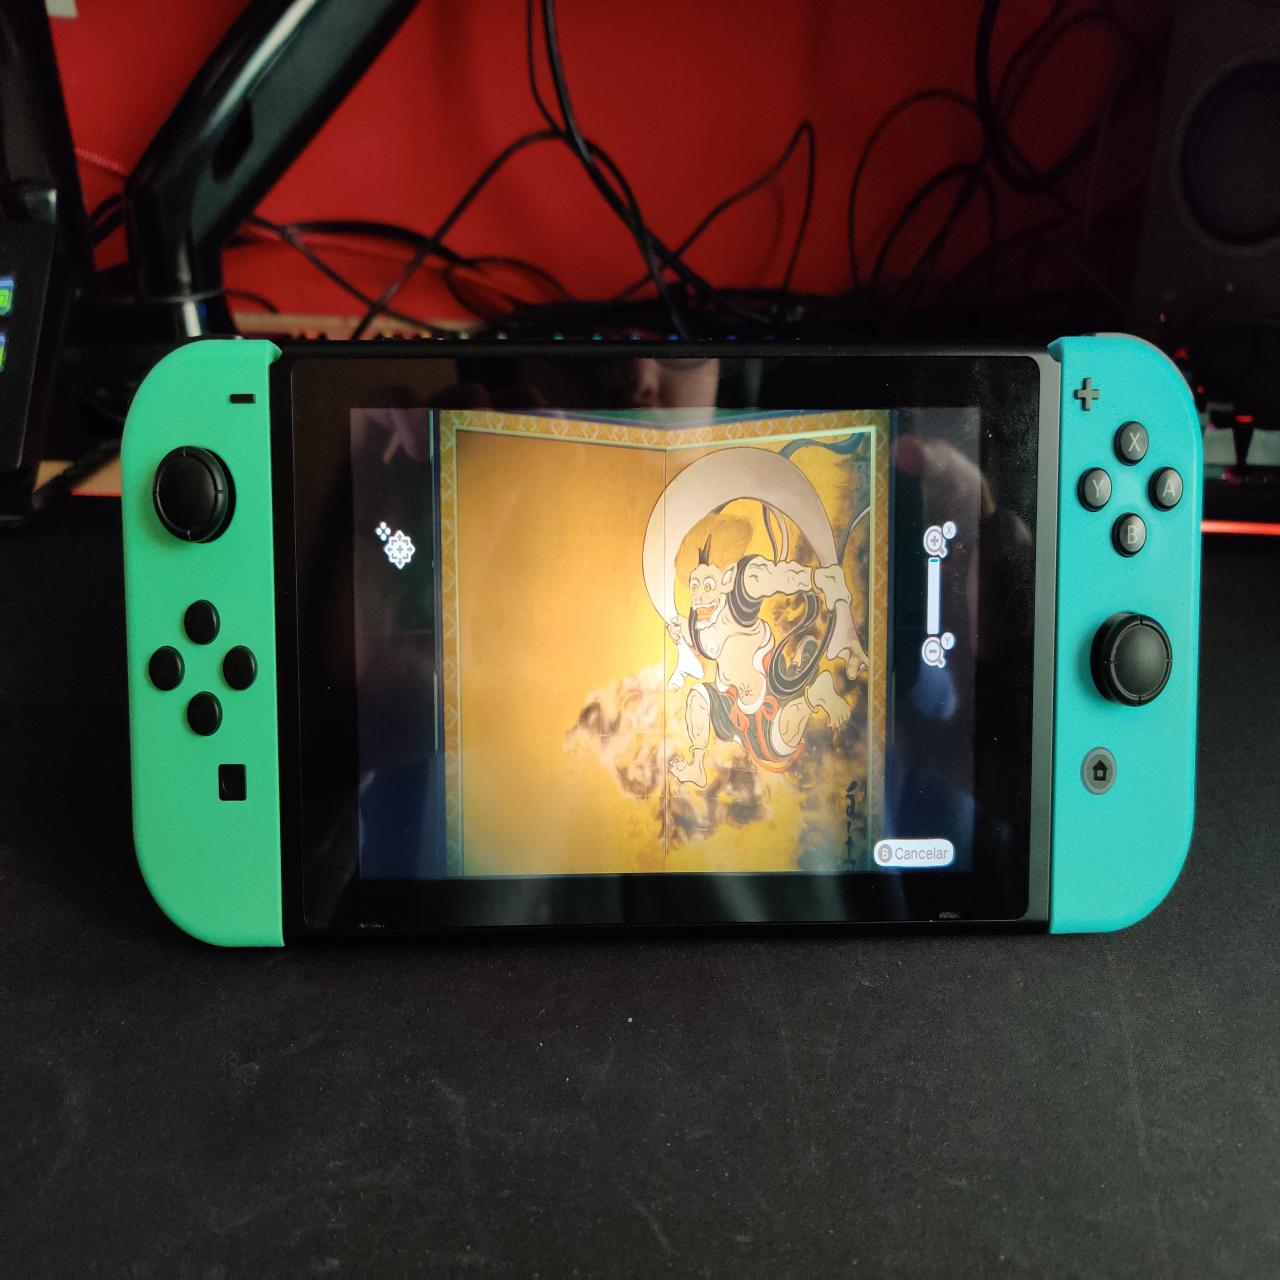FuujinFake: (437, 413, 891, 873)
